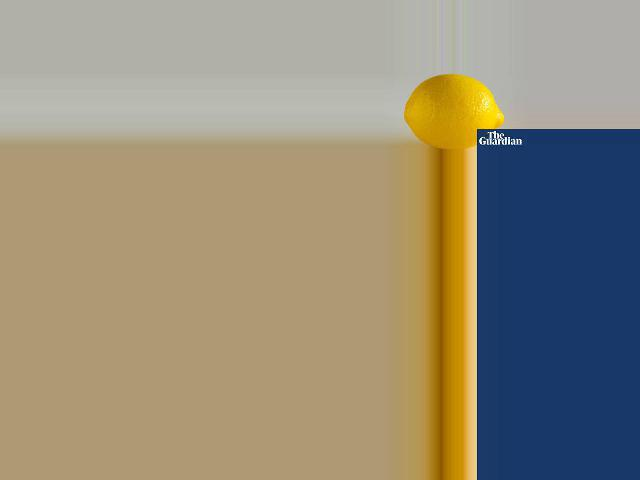lemon: (395, 73, 507, 150)
